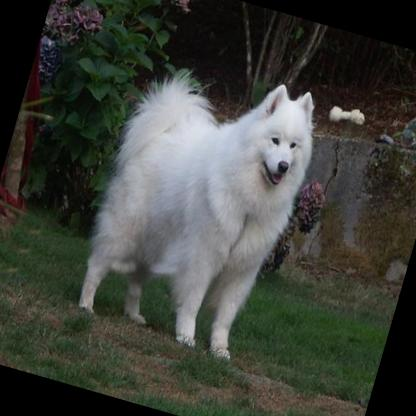Samoyed: (65, 40, 333, 372)
